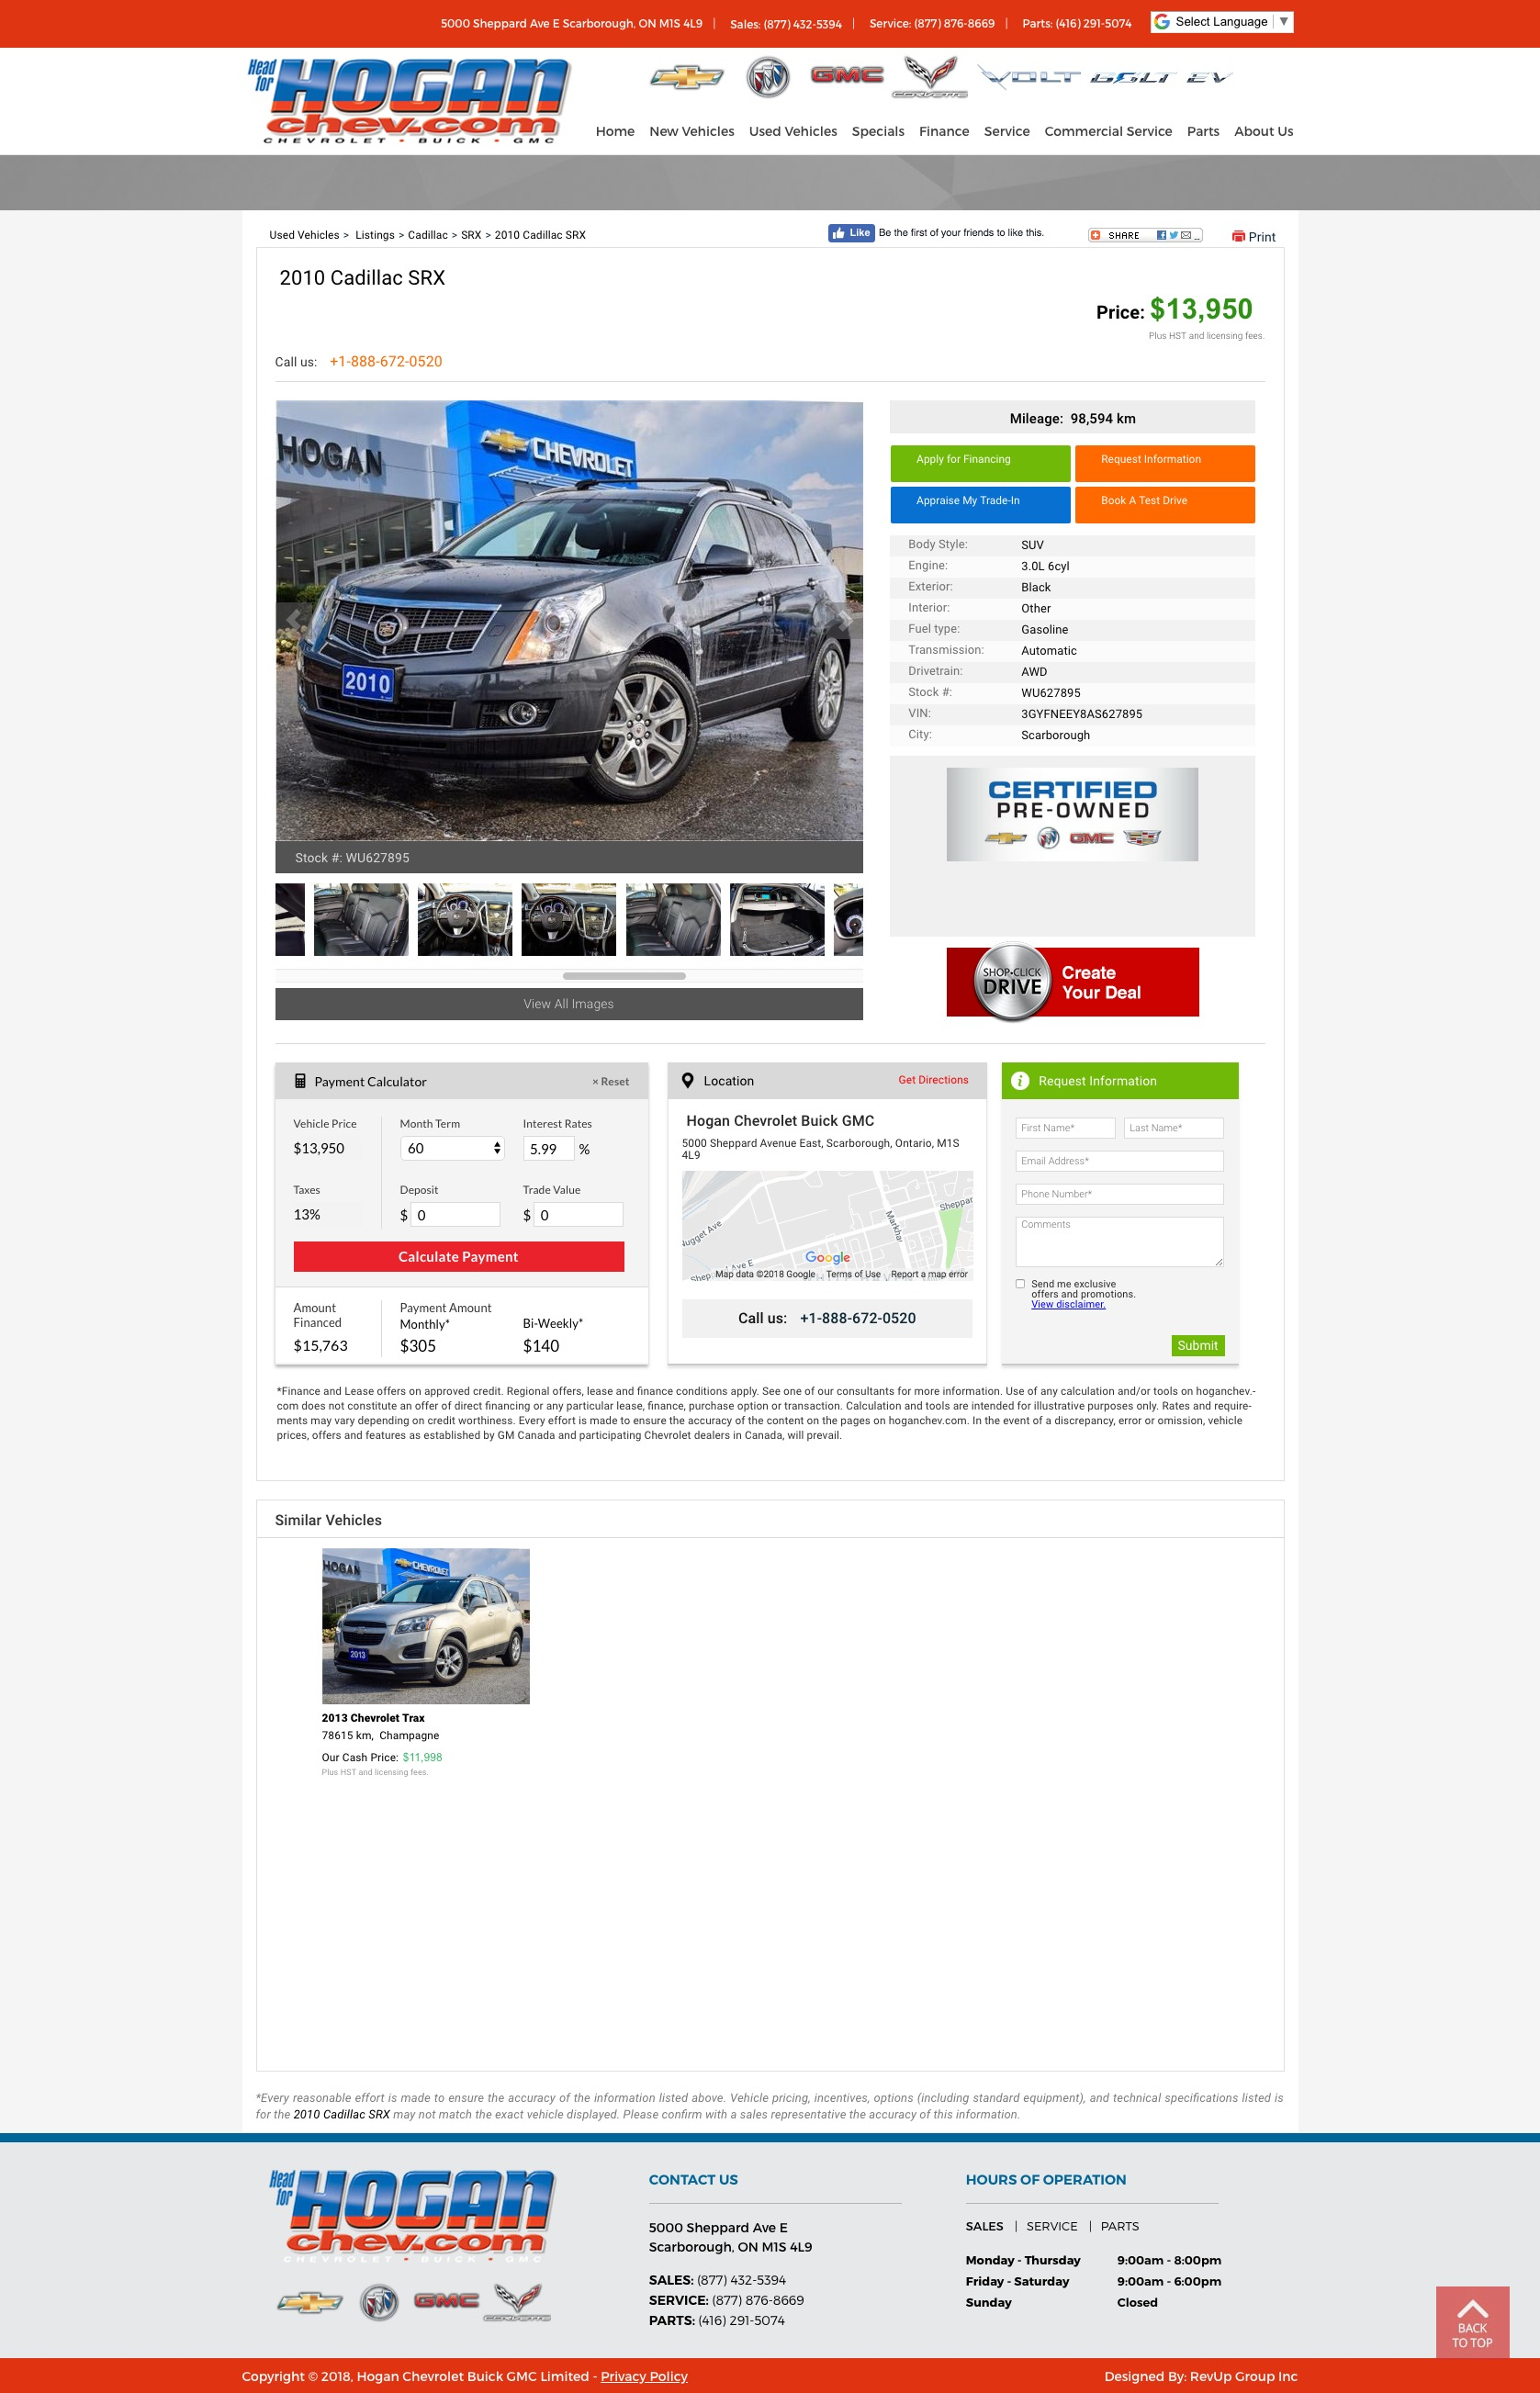car: (827, 602, 863, 640)
